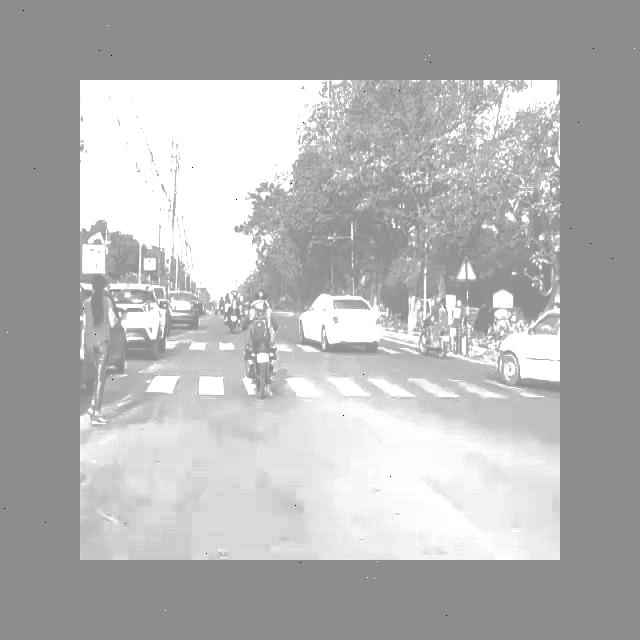Bike: (240, 286, 290, 406)
Car: (489, 295, 563, 401), (300, 284, 383, 366), (117, 275, 164, 365), (172, 284, 204, 334)
